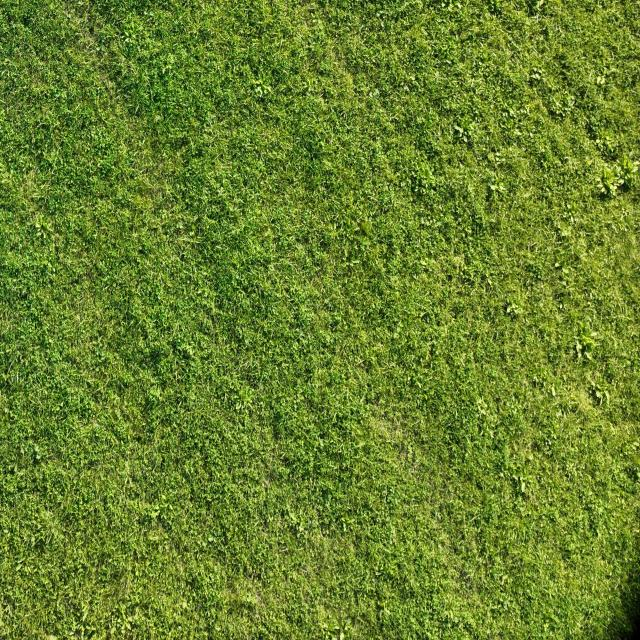rumex: (334, 404, 427, 561), (410, 519, 520, 635), (0, 204, 72, 317), (511, 378, 578, 477), (127, 451, 196, 538), (28, 113, 79, 184), (504, 243, 558, 308), (413, 273, 463, 340), (434, 1, 481, 44), (485, 141, 523, 193), (369, 408, 408, 453), (337, 234, 371, 276), (498, 284, 531, 325), (582, 369, 611, 406), (449, 113, 479, 146), (414, 338, 440, 376), (594, 59, 619, 96), (618, 152, 640, 189), (514, 466, 540, 497), (596, 167, 622, 197), (413, 164, 437, 190), (117, 15, 140, 40), (585, 115, 605, 142), (547, 92, 568, 115), (459, 262, 480, 284), (144, 384, 165, 406), (143, 501, 164, 523), (253, 76, 272, 100), (595, 134, 616, 155), (488, 176, 510, 193), (43, 522, 56, 548), (238, 386, 254, 407), (485, 185, 499, 209), (528, 65, 546, 83), (531, 368, 548, 386), (578, 335, 596, 352), (565, 200, 581, 218), (173, 232, 195, 245), (475, 401, 489, 420), (452, 125, 468, 141), (80, 602, 92, 623), (596, 178, 610, 196), (558, 224, 573, 240), (543, 148, 556, 166), (180, 461, 193, 478), (430, 70, 442, 88), (178, 343, 191, 358), (118, 618, 130, 634), (464, 437, 474, 456), (34, 222, 45, 238), (368, 349, 378, 366), (574, 341, 584, 358), (14, 556, 26, 570), (611, 164, 623, 178), (125, 62, 137, 76), (295, 520, 306, 535), (566, 94, 576, 110), (508, 106, 520, 119), (535, 0, 546, 14), (352, 440, 367, 450), (512, 126, 524, 138), (492, 152, 503, 165), (40, 221, 51, 234), (132, 566, 141, 581), (94, 348, 106, 359), (561, 265, 572, 277), (304, 81, 314, 94), (310, 13, 320, 26), (179, 599, 189, 612), (316, 436, 326, 449), (519, 477, 527, 493), (633, 466, 640, 484), (3, 602, 12, 616), (419, 257, 430, 268), (595, 75, 606, 86), (464, 226, 474, 238), (370, 88, 380, 100), (392, 328, 402, 339), (344, 217, 353, 229), (587, 329, 599, 338), (467, 182, 475, 195), (420, 310, 430, 320), (452, 2, 462, 12), (333, 622, 341, 634), (486, 276, 494, 288), (342, 110, 349, 123), (340, 514, 349, 524), (418, 186, 427, 196), (524, 105, 532, 116), (341, 521, 348, 533), (29, 535, 36, 547), (399, 179, 406, 191), (620, 212, 627, 224), (176, 220, 184, 230), (256, 86, 264, 96), (268, 264, 276, 274), (476, 398, 484, 408), (584, 350, 592, 360), (402, 83, 410, 93), (587, 291, 594, 302), (217, 187, 225, 196), (396, 322, 404, 331), (564, 154, 572, 163), (377, 10, 386, 18), (550, 385, 556, 397), (154, 114, 161, 124), (33, 444, 40, 454), (235, 402, 242, 412), (556, 410, 563, 420), (569, 214, 576, 224), (421, 216, 428, 226), (359, 24, 366, 34), (554, 260, 562, 268), (359, 396, 365, 406), (525, 289, 531, 299), (339, 630, 345, 640), (188, 230, 195, 238), (308, 6, 316, 13), (57, 400, 63, 409), (423, 392, 429, 400)
